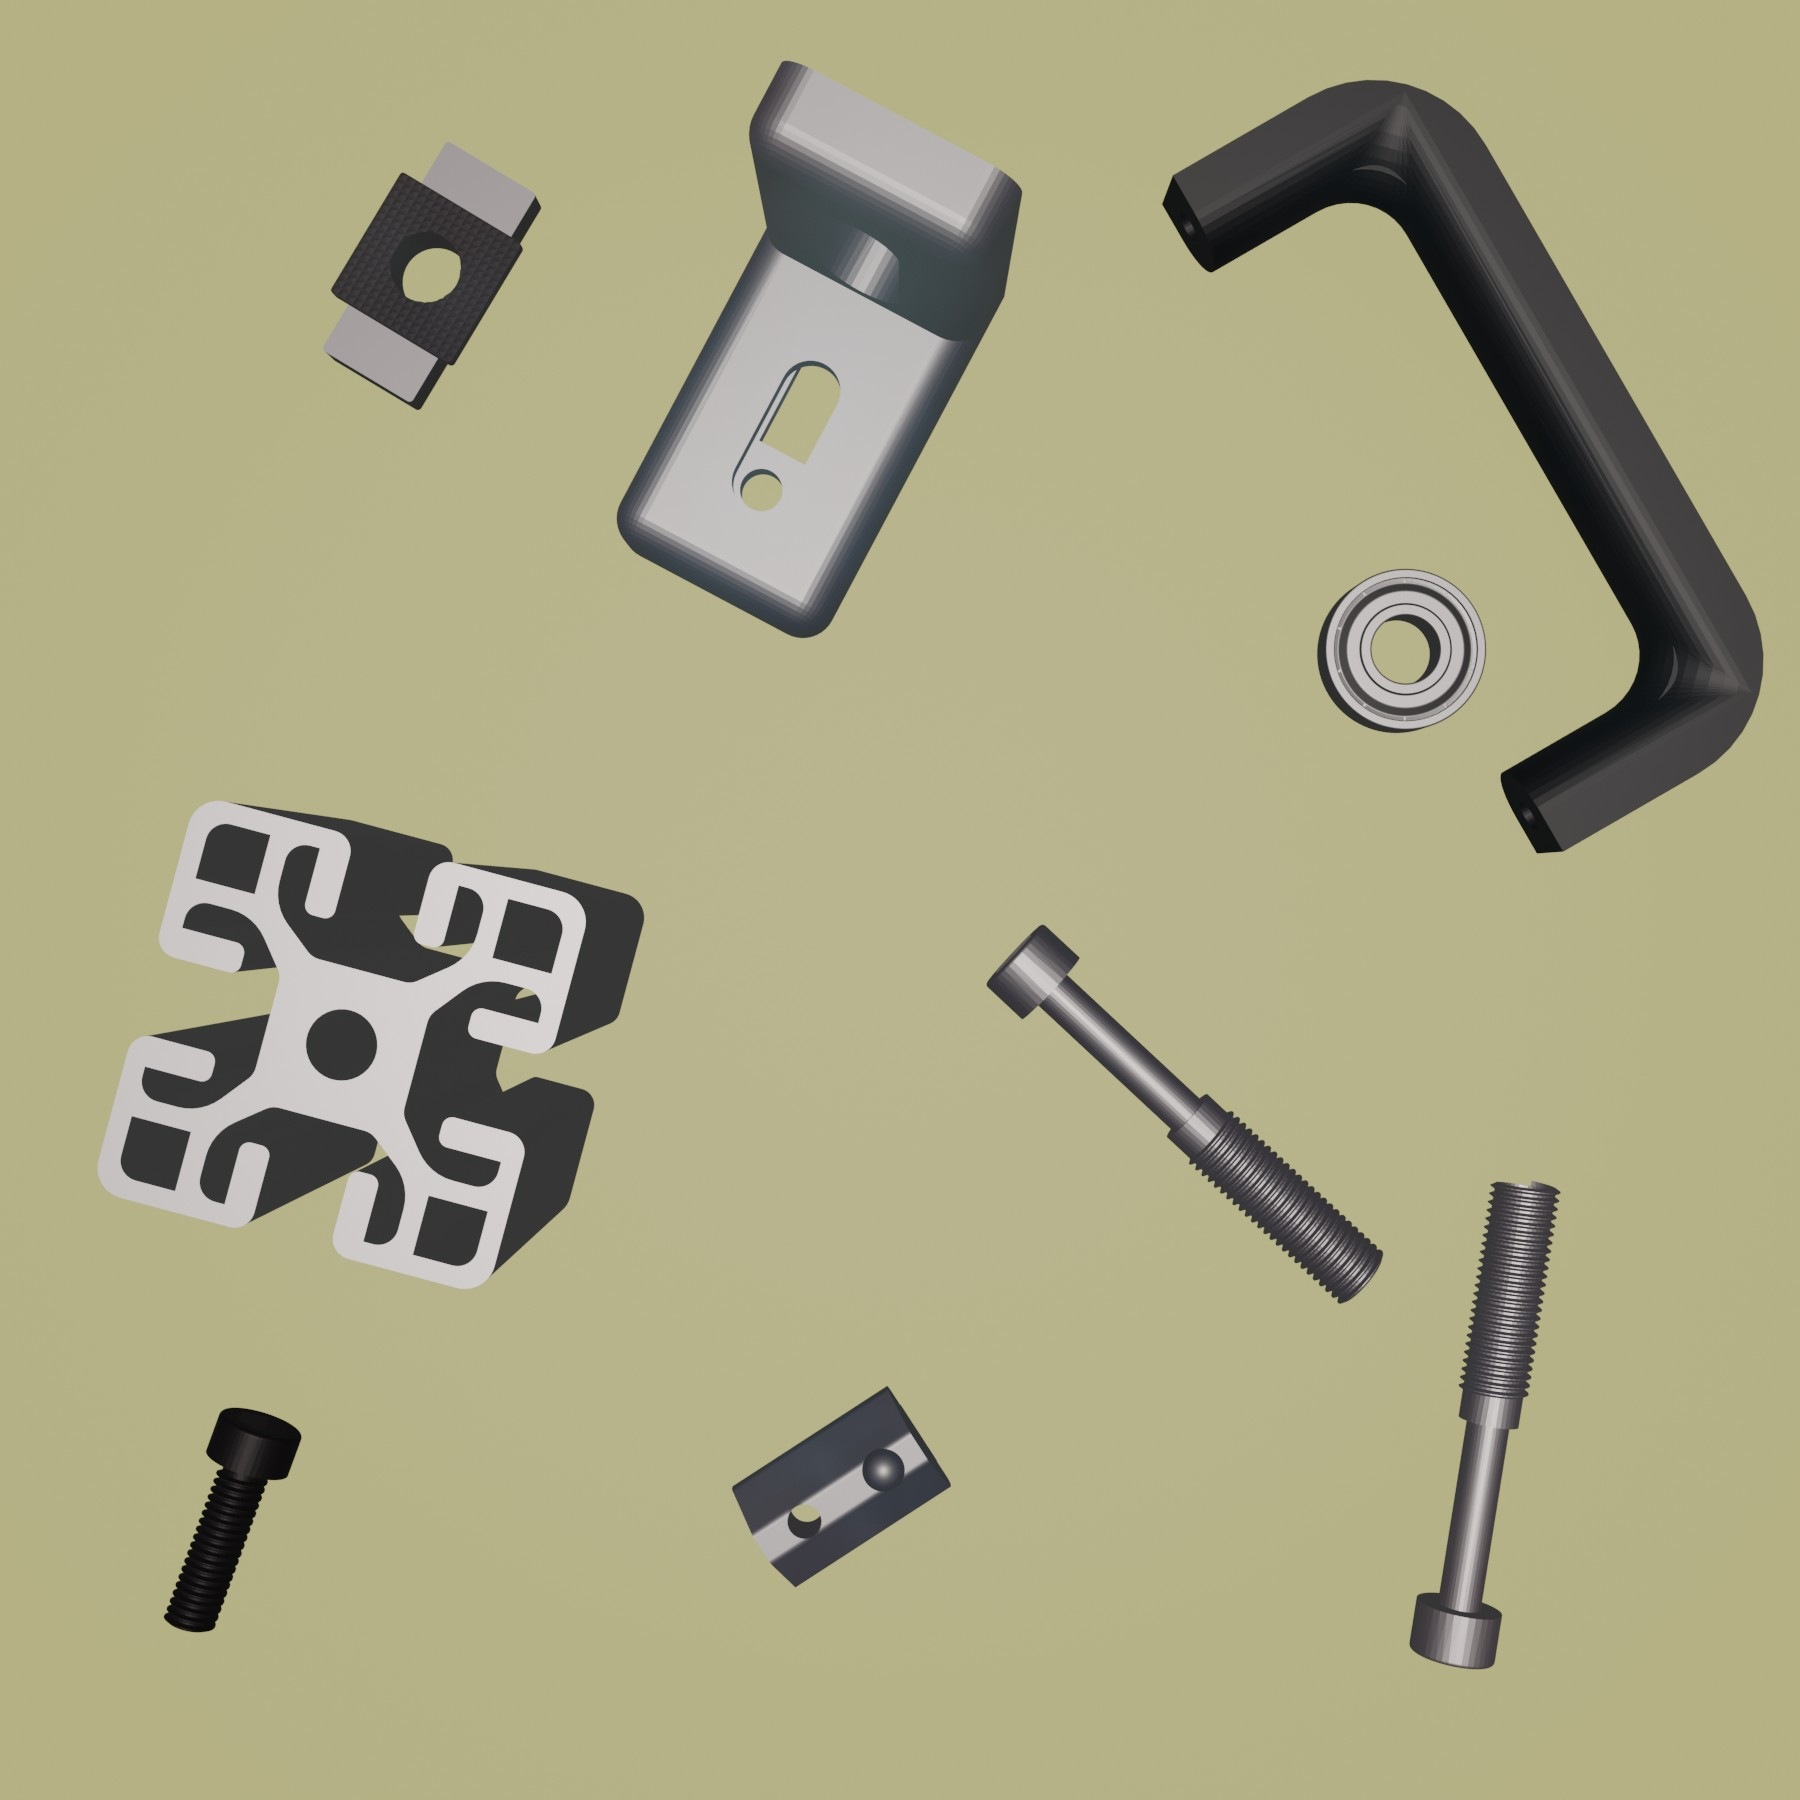Aluminium Extension: (94, 796, 646, 1296)
Ball Bearing: (1315, 569, 1488, 737)
Multiwinkel: (616, 59, 1025, 640)
Pull Handle: (1159, 76, 1767, 857)
Shoulder Socket Head Cap Screw: (981, 920, 1385, 1309), (1409, 1177, 1564, 1675)
Socket Head Cap Screw: (162, 1403, 302, 1635)
T Nut Square: (321, 137, 546, 414)
T Spring Nut: (730, 1380, 954, 1589)
